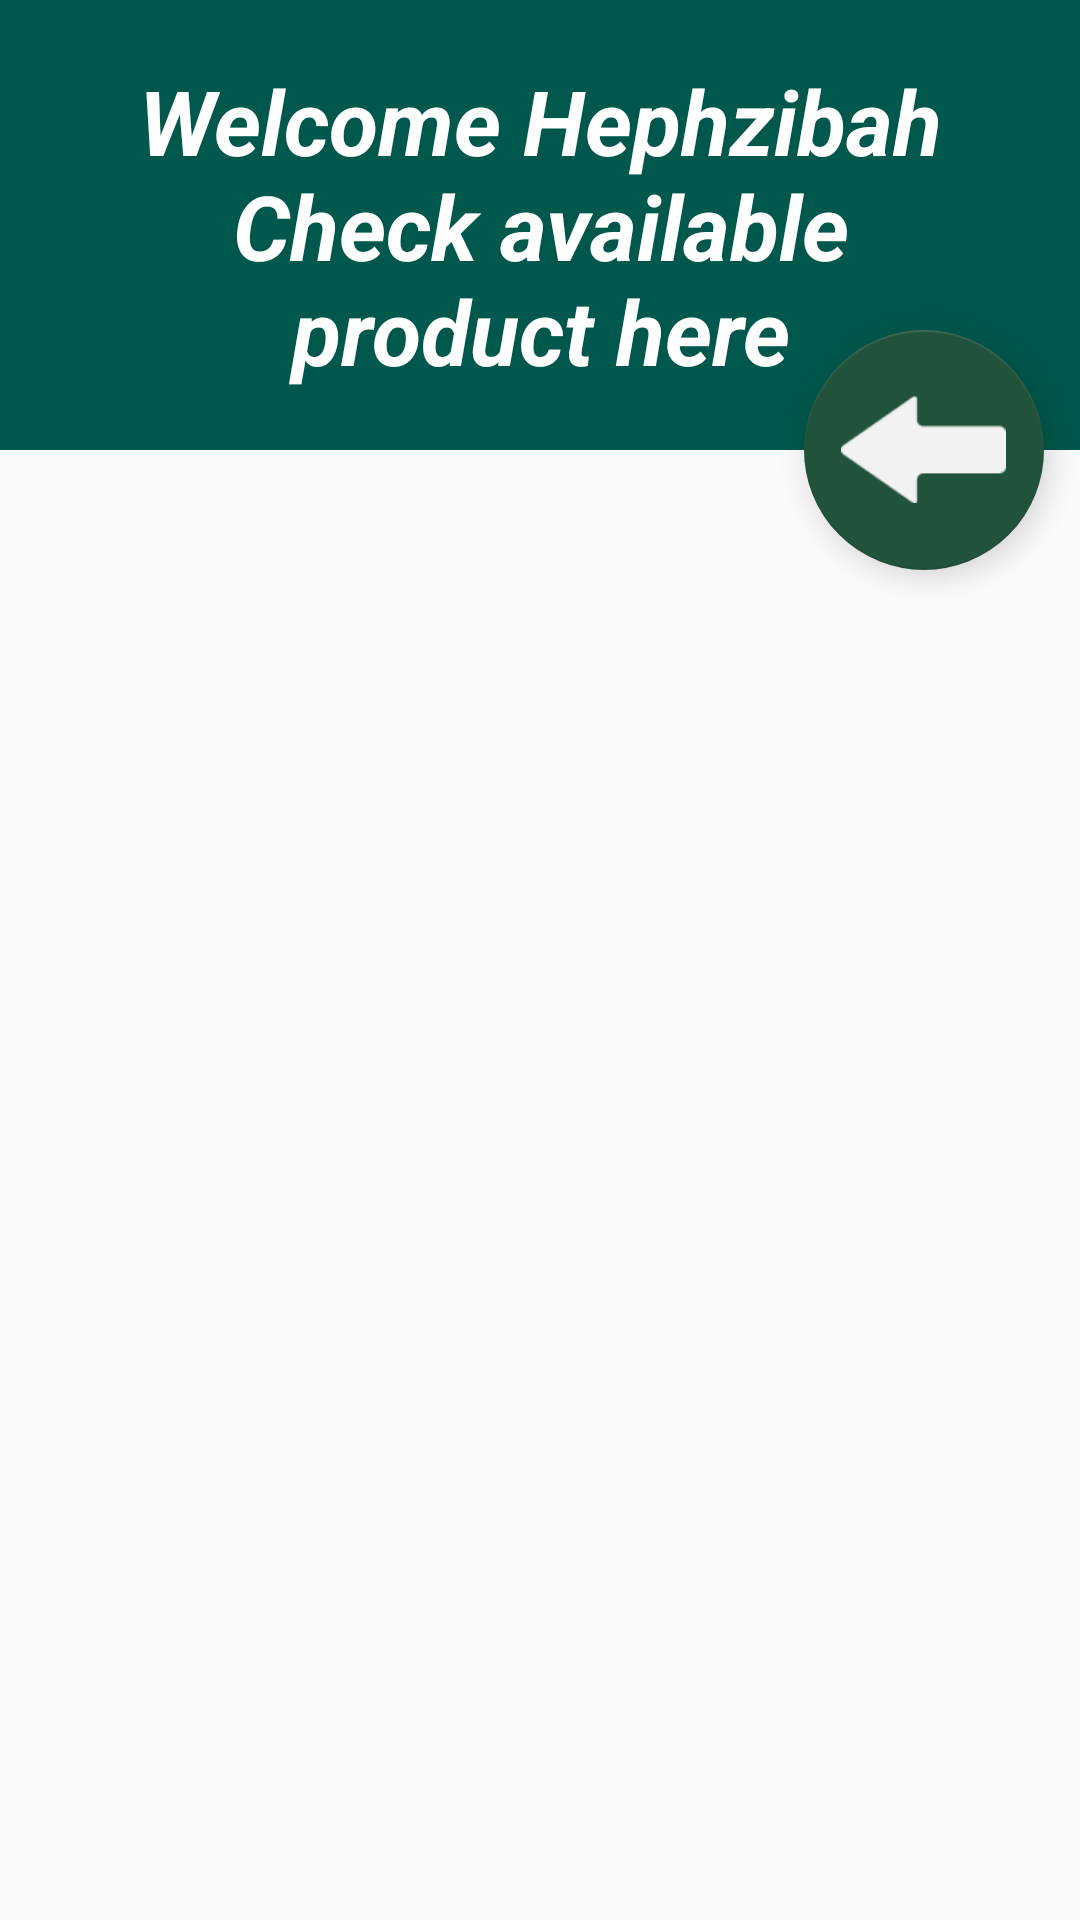

Icon click points for this 1080px x 1920px phone screenshot, format [x,y]:
arrow: [924,450]
